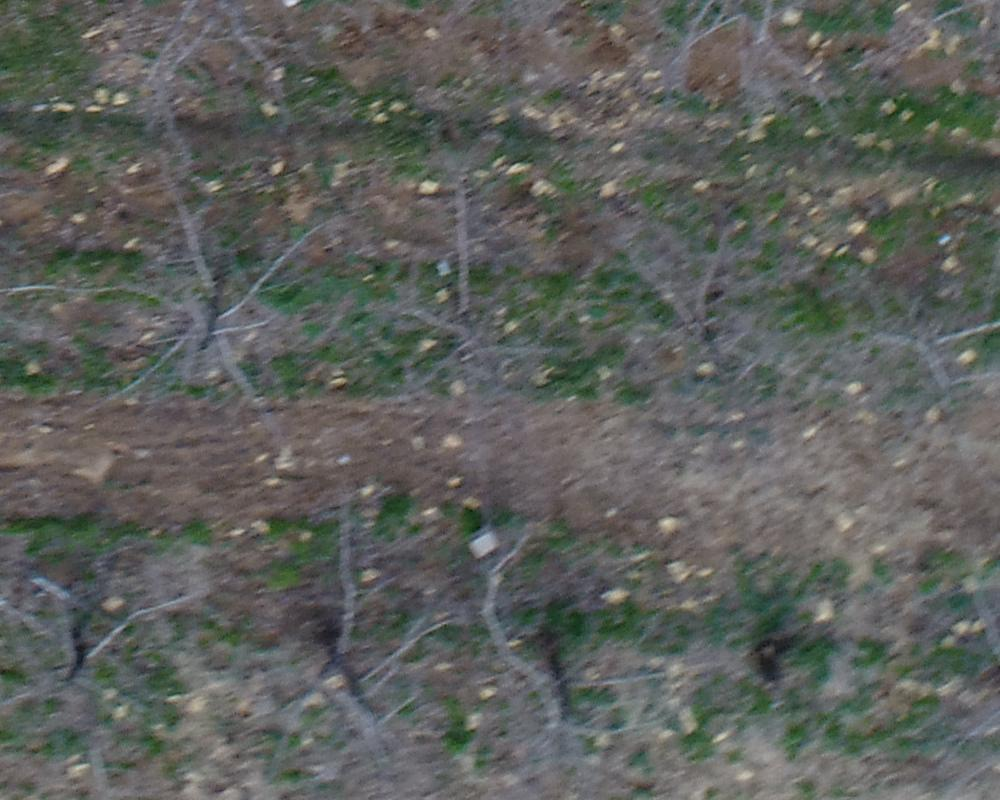apple: (424, 517, 675, 768), (108, 161, 335, 428), (345, 174, 582, 426), (265, 503, 452, 783), (10, 546, 185, 775), (617, 205, 786, 375), (641, 10, 870, 128), (848, 262, 990, 401)
